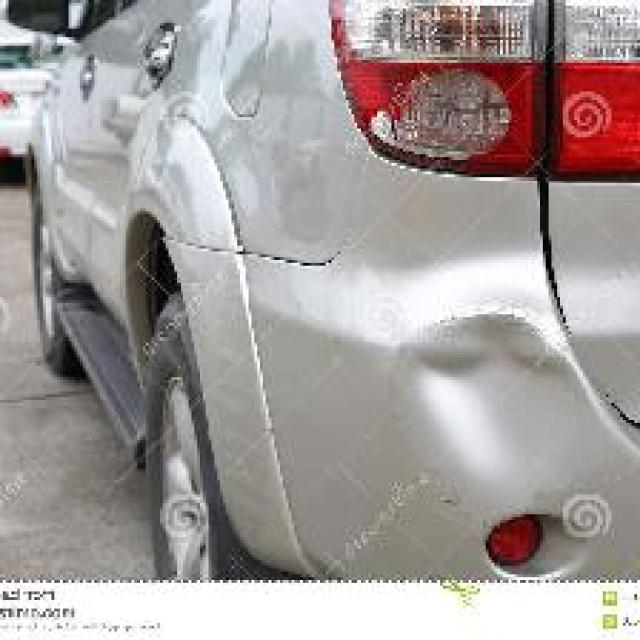bumper_dent_minor: (394, 317, 571, 480)
